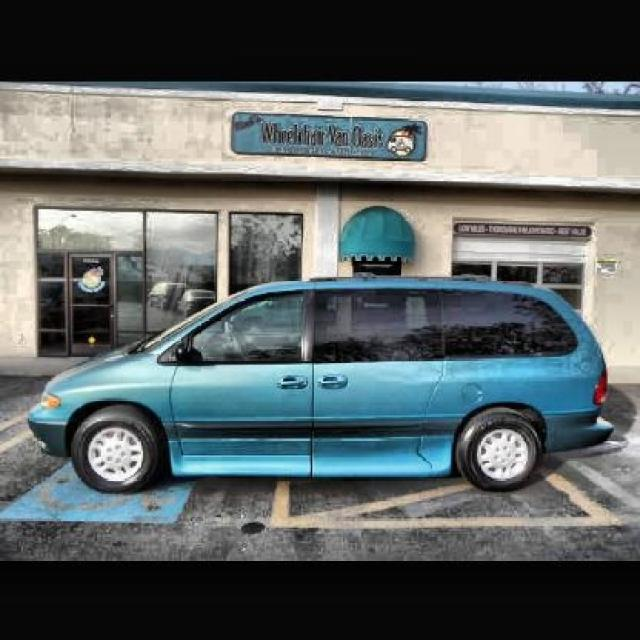blue: (15, 273, 640, 499)
